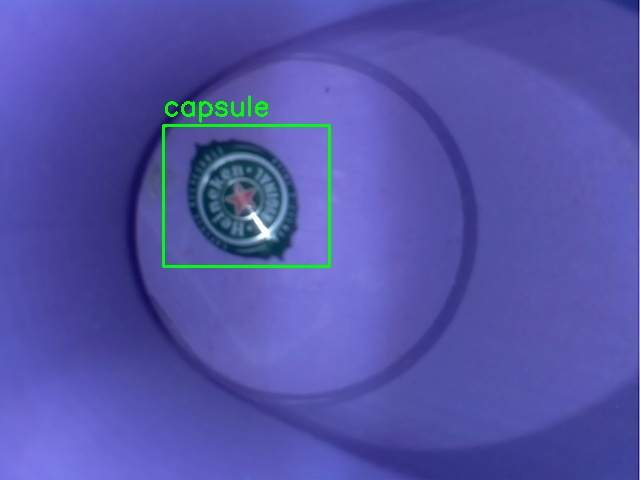capsule: (163, 125, 329, 266)
